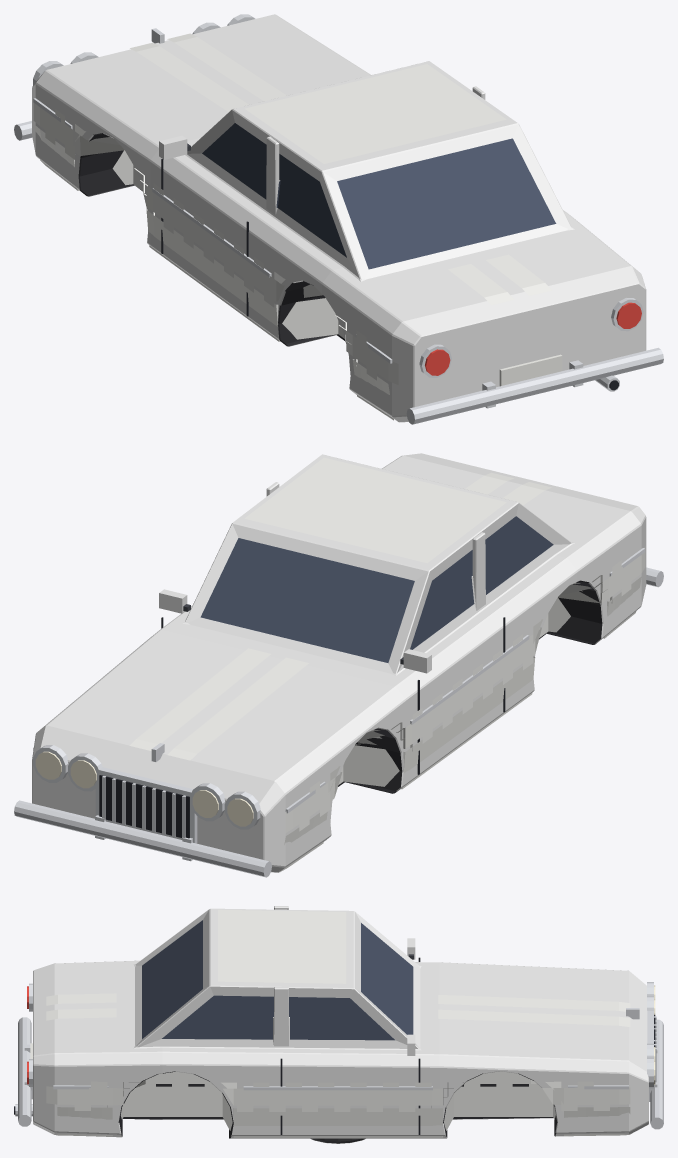
The model's file is vanha_valtias.glb.
3 renders of one model, top to bottom at view 1: azimuth 30°, elevation 25°; view 2: azimuth 150°, elevation 25°; view 3: azimuth 270°, elevation 25°, orthographic. The views are drawn at different scales.
Parts seen in each view (by area): view 1: Body, Pattern_TWO_TONE, Details, Pattern_STRIPE, Pattern_SIDE_BAND, Pattern_CHECKER; view 2: Body, Pattern_TWO_TONE, Details, Pattern_STRIPE, Pattern_SIDE_BAND, Pattern_CHECKER; view 3: Body, Pattern_TWO_TONE, Pattern_STRIPE, Pattern_SIDE_BAND, Details, Pattern_CHECKER.
Part boxes in pixels (<box>): Body: <box>32,14,646,422</box>; Pattern_TWO_TONE: <box>34,64,506,420</box>; Details: <box>14,14,663,424</box>; Pattern_STRIPE: <box>130,33,551,305</box>; Pattern_SIDE_BAND: <box>33,103,398,384</box>; Pattern_CHECKER: <box>45,109,376,380</box>; Body: <box>32,453,646,872</box>; Pattern_TWO_TONE: <box>245,457,641,872</box>; Details: <box>14,548,663,877</box>; Pattern_STRIPE: <box>129,472,551,760</box>; Pattern_SIDE_BAND: <box>285,546,645,832</box>; Pattern_CHECKER: <box>299,560,631,831</box>; Body: <box>33,906,648,1138</box>; Pattern_TWO_TONE: <box>57,909,630,1137</box>; Pattern_STRIPE: <box>46,934,630,1026</box>; Pattern_SIDE_BAND: <box>46,1071,630,1105</box>; Details: <box>14,938,663,1134</box>; Pattern_CHECKER: <box>74,1073,609,1111</box>.
Bounding box in the file's own units: 1.85 × 1.51 × 4.81.
